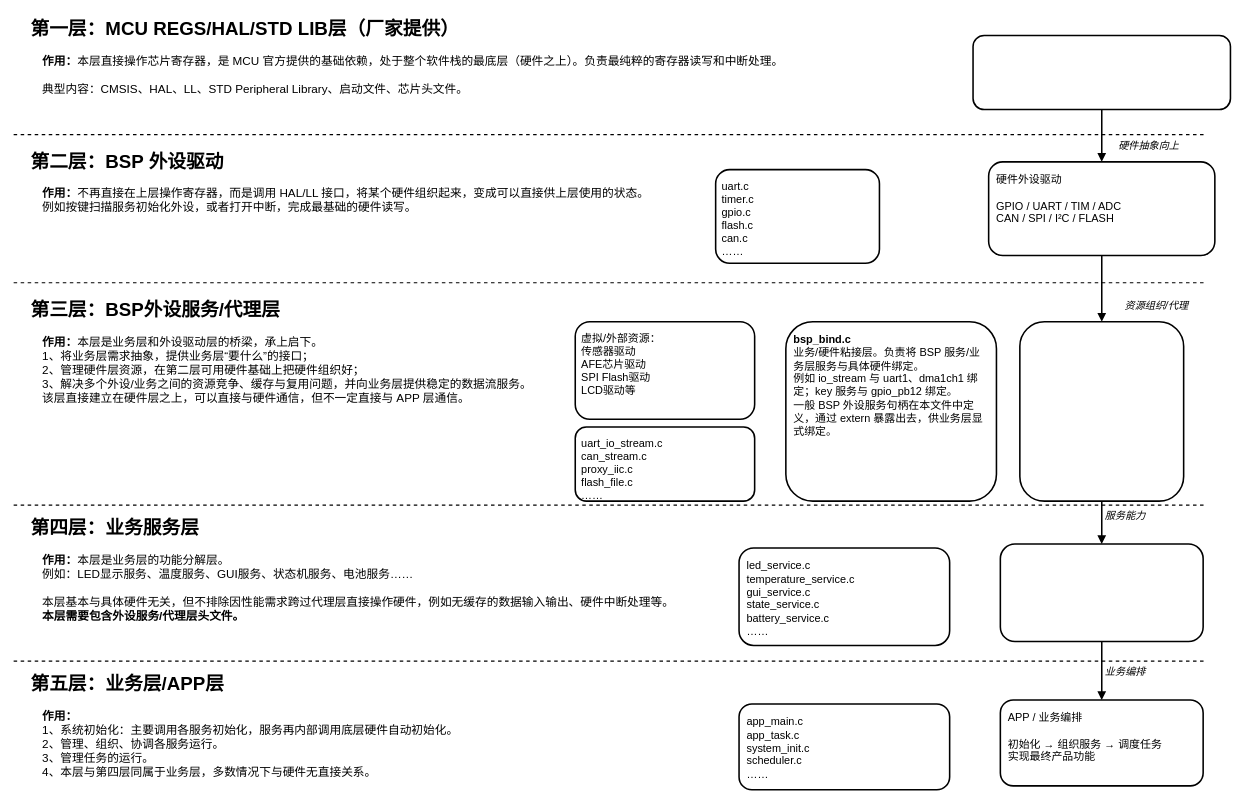
The diagram is 1245 pixels wide and 807 high, and some of its shapes have lost their labels. Each missing label, with the centre of its shape:
"bsp_res.c 1、初始化静态配置 2、逆初始化静态配置 3、BSP 外设资源句柄声明 本文件跨接第二层、第三层。" belongs at point 1101,411.
"MCU寄存器 / CMSIS HAL / LL / STD LIB Startup / IRQ" belongs at point 1101,72.
"业务能力抽象 只关心： “要显示什么？” “要读取什么？” “系统处于什么状态？”" belongs at point 1101,592.
